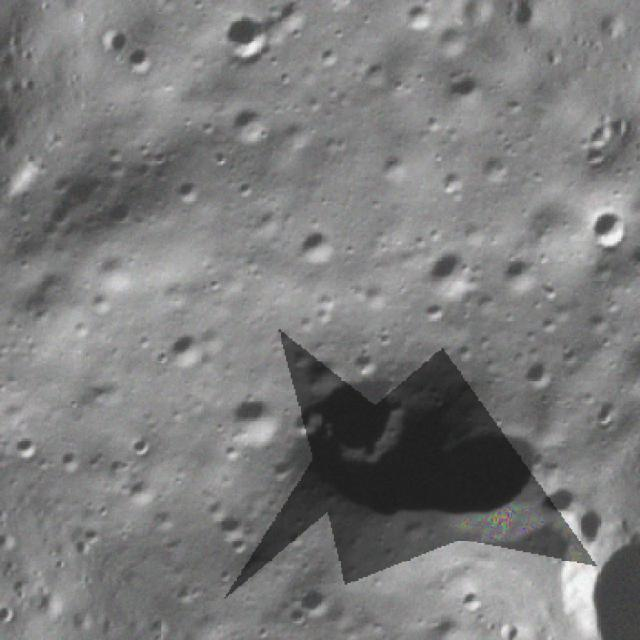crater: (394, 388, 586, 587), (265, 310, 450, 498), (207, 377, 296, 468), (199, 0, 292, 83), (410, 230, 495, 316), (281, 211, 354, 283), (571, 195, 640, 268), (220, 96, 285, 159), (490, 238, 552, 302), (526, 474, 588, 538), (508, 343, 568, 403), (285, 571, 341, 626), (6, 422, 62, 476), (580, 391, 634, 446), (204, 496, 256, 547), (438, 64, 489, 116), (166, 172, 212, 219), (122, 423, 164, 466), (119, 42, 159, 82)
